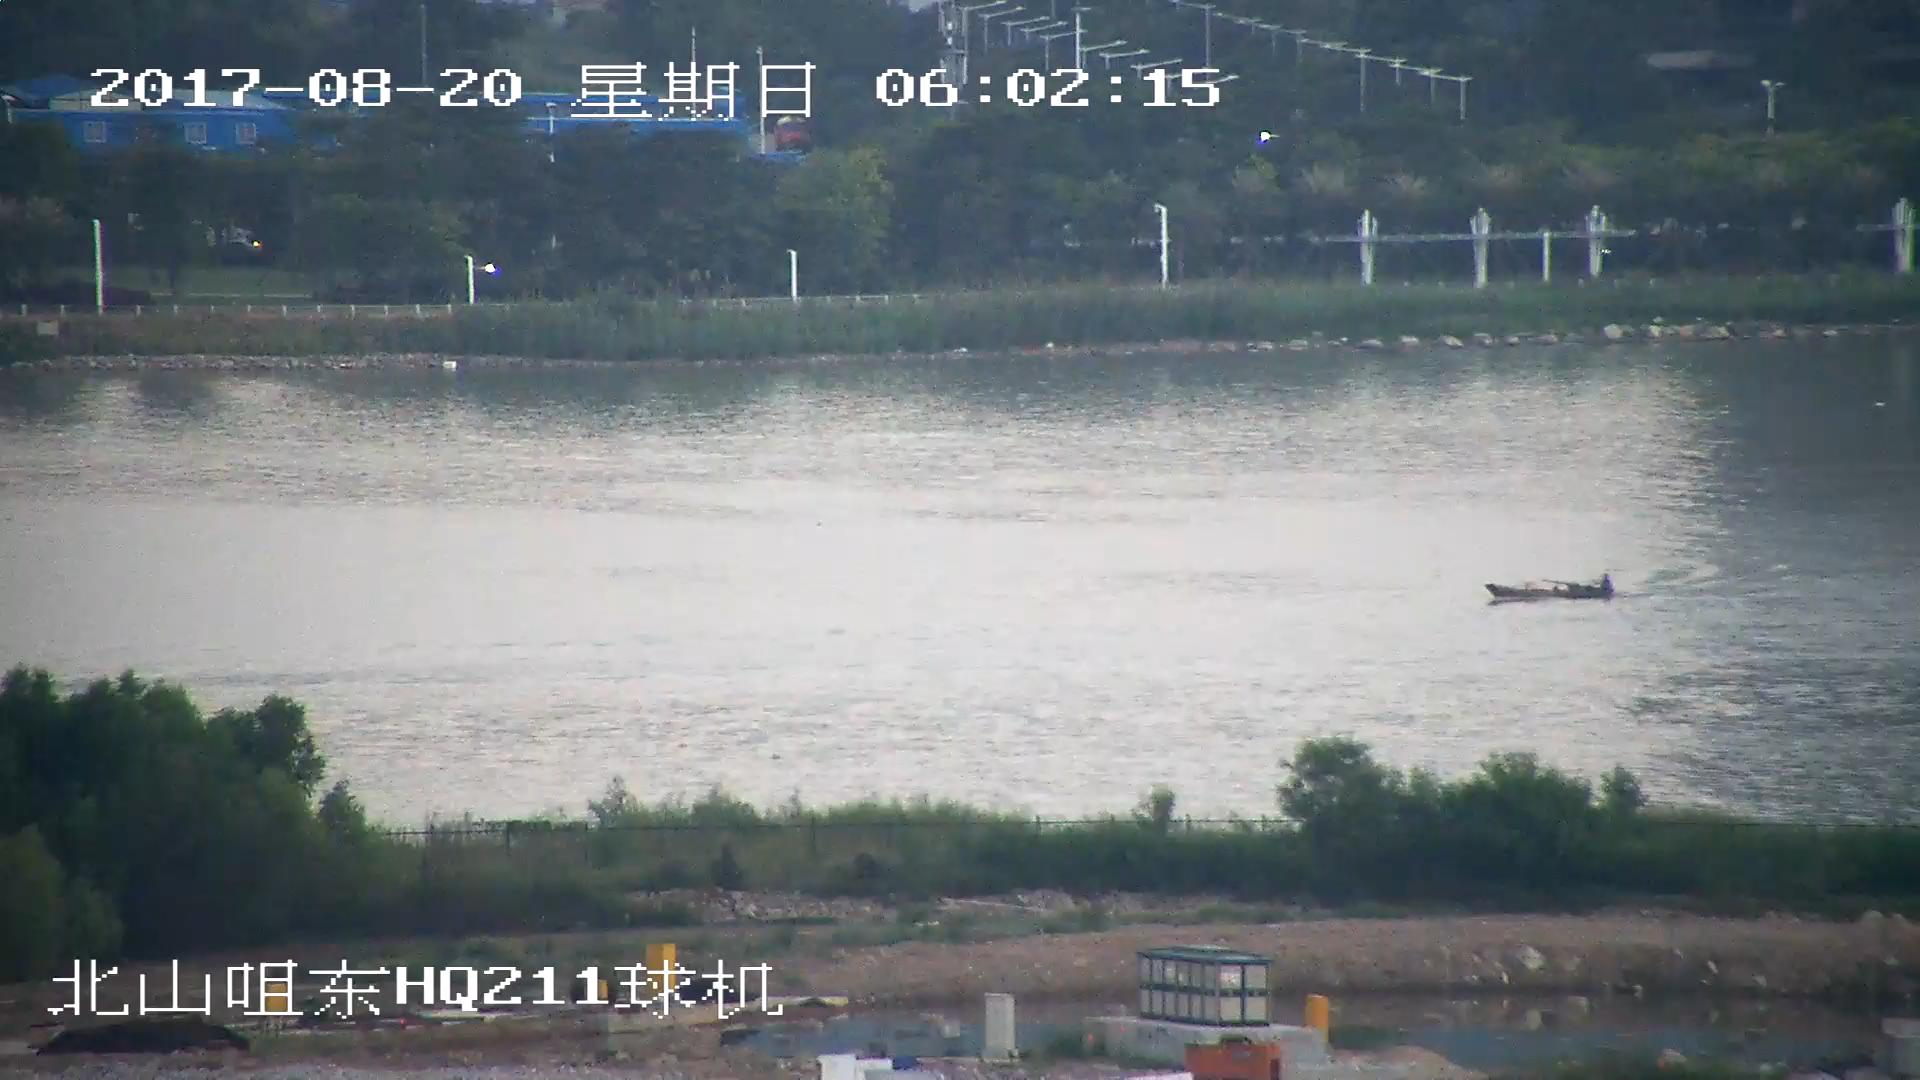fishing boat: (1487, 571, 1619, 601)
